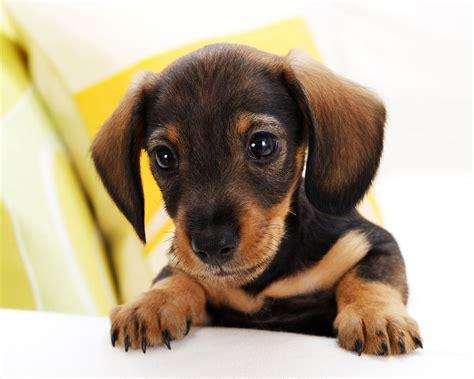dog: (90, 44, 422, 353)
